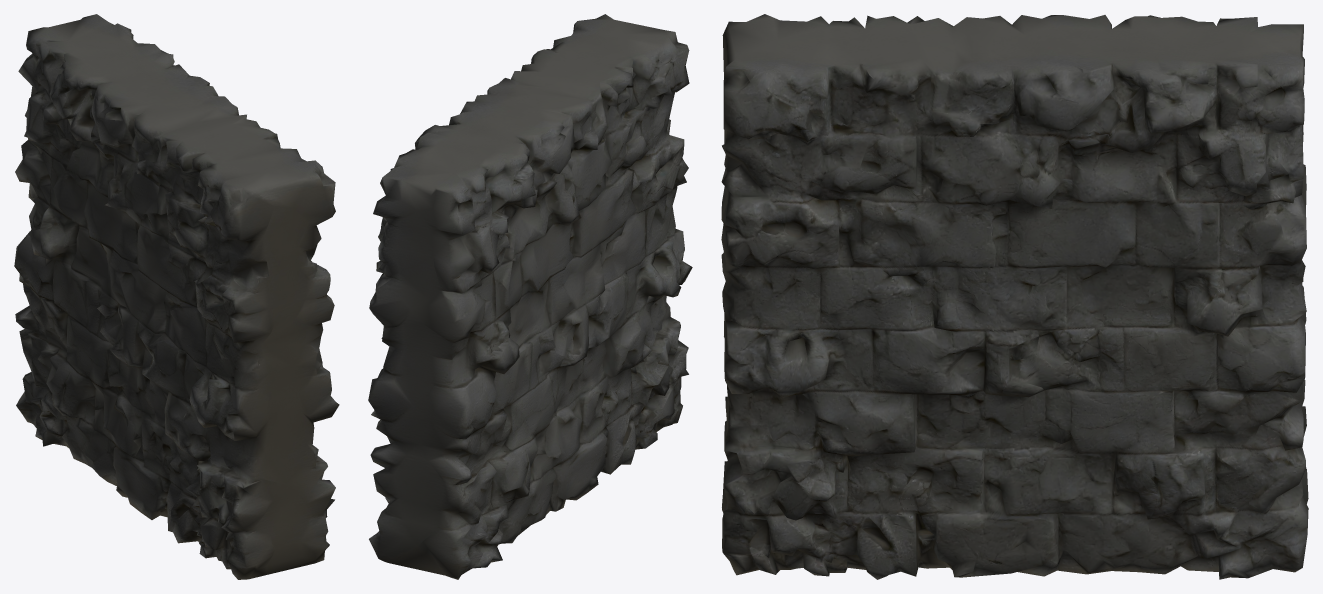
The model's file is brick_wall.glb.
3 renders of one model, left to right at view 1: azimuth 30°, elevation 25°; view 2: azimuth 150°, elevation 25°; view 3: azimuth 270°, elevation 25°, orthographic. The views are drawn at different scales.
Parts seen in each view (by area): view 1: tripo_node_7183084c-eaeb-4029-aa2f-88b7c62dceb1; view 2: tripo_node_7183084c-eaeb-4029-aa2f-88b7c62dceb1; view 3: tripo_node_7183084c-eaeb-4029-aa2f-88b7c62dceb1.
Boxes of the visible parts, <box> form: tripo_node_7183084c-eaeb-4029-aa2f-88b7c62dceb1: <box>14,14,339,579</box>; tripo_node_7183084c-eaeb-4029-aa2f-88b7c62dceb1: <box>368,14,692,579</box>; tripo_node_7183084c-eaeb-4029-aa2f-88b7c62dceb1: <box>721,14,1308,579</box>.
Bounding box in the file's own units: 0.3102 × 0.9554 × 1.
1 material, 1 textured.
